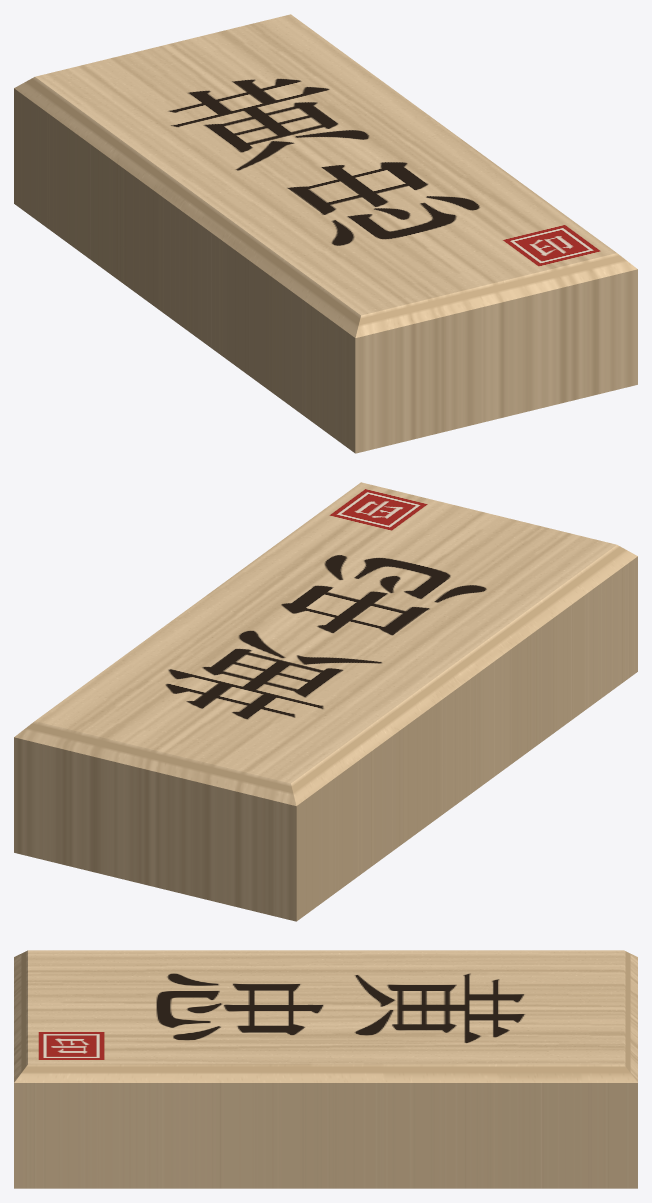
Rendered from tile_huang.glb.
3 views of the same model, one above another, from view 1: azimuth 30°, elevation 25°; view 2: azimuth 150°, elevation 25°; view 3: azimuth 270°, elevation 25° (orthographic). The views are drawn at different scales.
Parts seen in each view (by area): view 1: tile_huang; view 2: tile_huang; view 3: tile_huang.
Part boxes in pixels (bbox=[...]): tile_huang: bbox=[14, 14, 637, 453]; tile_huang: bbox=[14, 482, 637, 921]; tile_huang: bbox=[14, 950, 637, 1188].
Bounding box in the file's own units: 0.064 × 0.028 × 0.134.
Materials: 1 (1 with a texture image).
